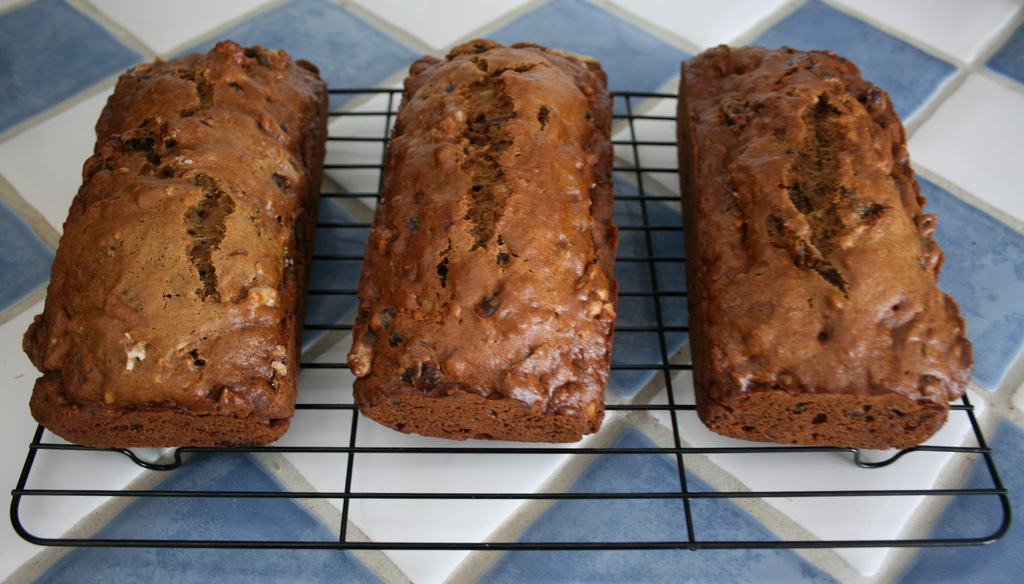slice of bread: (670, 40, 955, 446), (396, 35, 593, 446), (83, 43, 286, 430)
